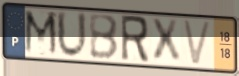B: (87, 14, 120, 62)
M: (23, 8, 60, 59)
R: (119, 14, 151, 65)
U: (55, 9, 89, 61)
V: (181, 18, 214, 67)
X: (149, 17, 183, 64)
